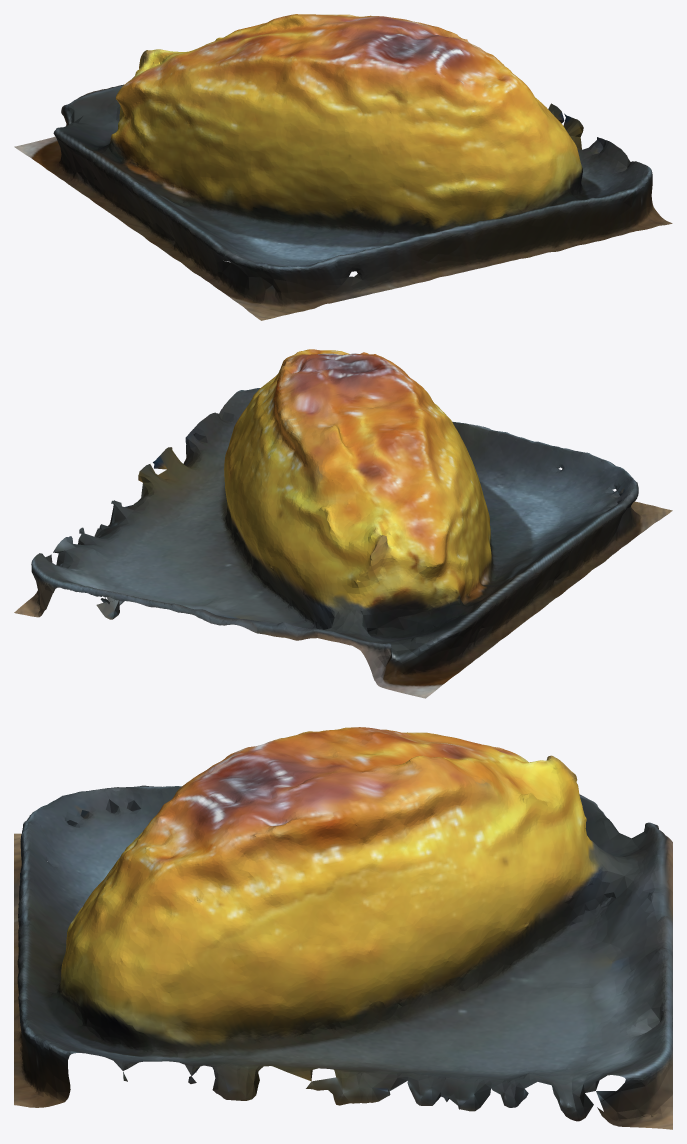
Rendered from kikuya.glb.
The picture shows the model from 3 angles, top to bottom: view 1: azimuth 30°, elevation 25°; view 2: azimuth 150°, elevation 25°; view 3: azimuth 270°, elevation 25°; orthographic projection. The views are drawn at different scales.
Parts seen in each view (by area): view 1: mesh; view 2: mesh; view 3: mesh.
Part boxes in pixels (box(x1,y1,x2,y2)): mesh: box(14, 14, 672, 320); mesh: box(14, 349, 672, 698); mesh: box(14, 727, 672, 1129).
Bounding box in the file's own units: 0.1472 × 0.061 × 0.1533.
Materials: 1 (1 with a texture image).
